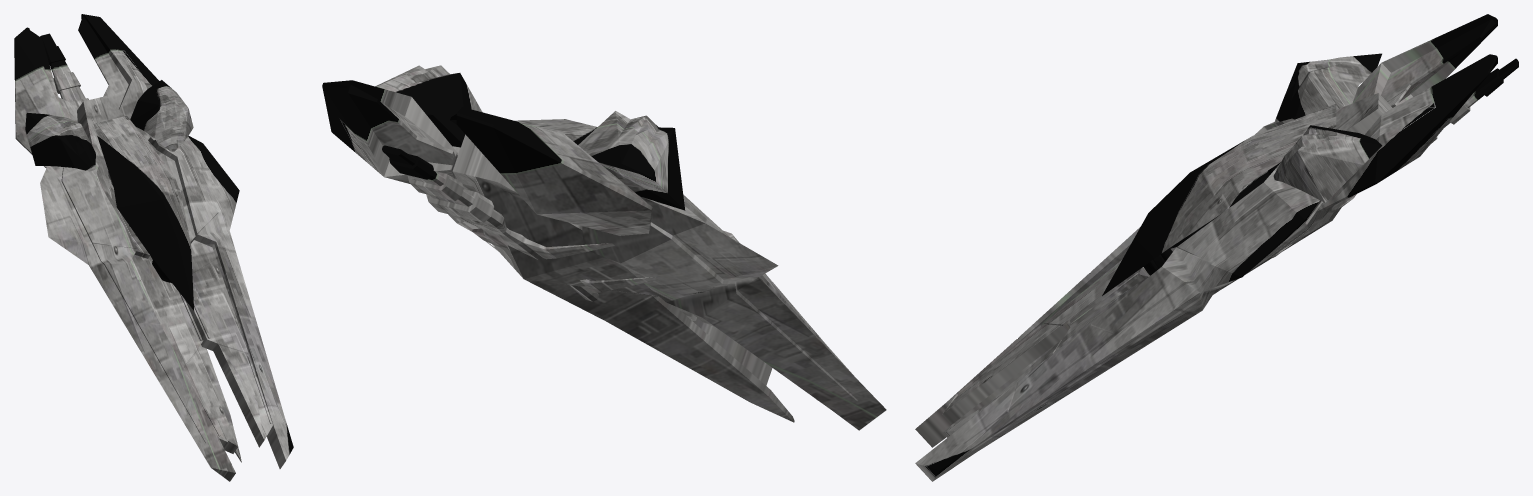
File: wing_close.fbx
3 views of the same model, side by side, from view 1: azimuth 30°, elevation 25°; view 2: azimuth 150°, elevation 25°; view 3: azimuth 270°, elevation 25° (orthographic). The views are drawn at different scales.
Visible parts, largest first — view 1: hane:hane:polySurface20; view 2: hane:hane:polySurface20; view 3: hane:hane:polySurface20.
Part boxes in pixels (x1=…): hane:hane:polySurface20: x1=14, y1=14, x2=293, y2=481; hane:hane:polySurface20: x1=322, y1=65, x2=886, y2=430; hane:hane:polySurface20: x1=915, y1=14, x2=1518, y2=481.
Bounding box in the file's own units: 3.97 × 6.11 × 7.77.
Materials: 1 (1 with a texture image).
